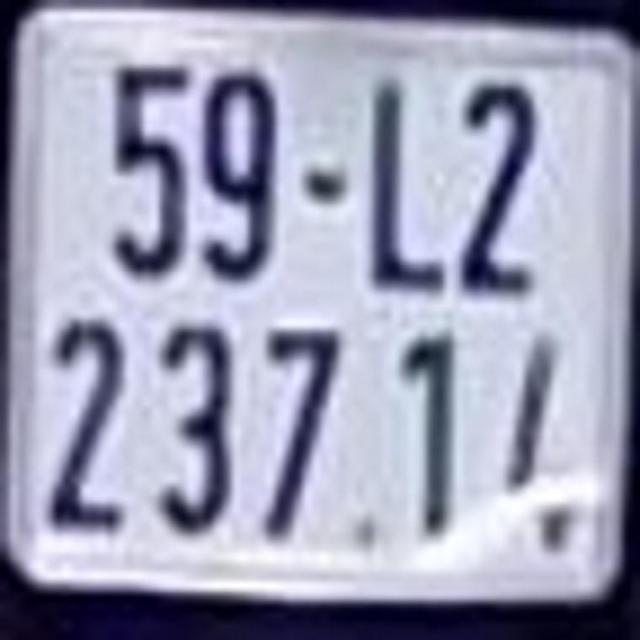1: (390, 319, 485, 564)
2: (43, 296, 132, 534), (456, 71, 546, 300)
3: (148, 297, 238, 538)
4: (499, 321, 592, 552)
5: (100, 50, 193, 285)
7: (257, 308, 351, 551)
9: (199, 37, 284, 286)
L: (354, 66, 452, 303)
